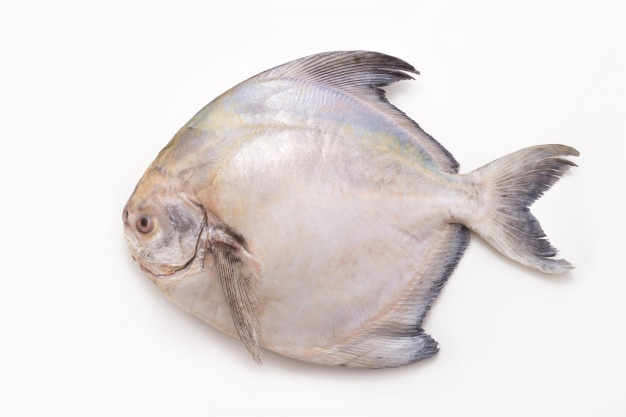Ikan Bawal: (115, 50, 582, 372)
